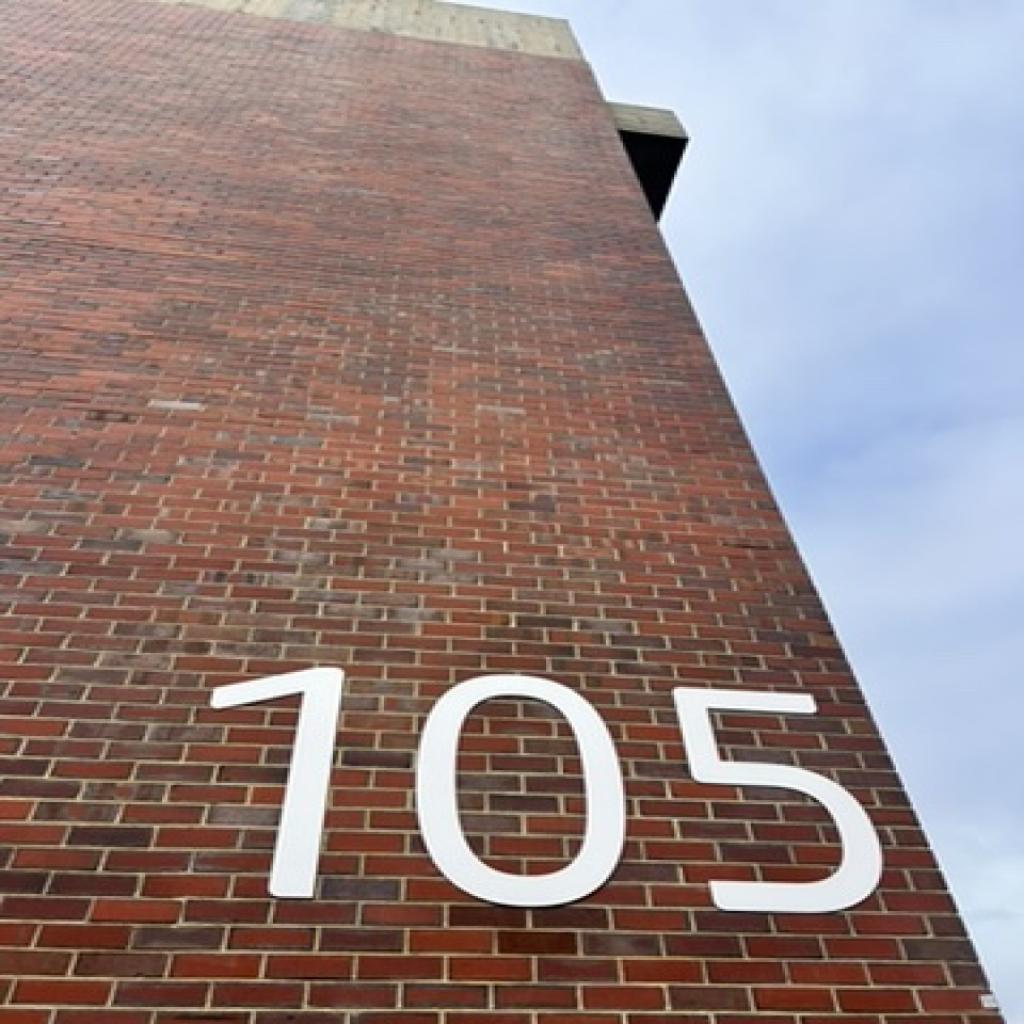BuildingCodes: (206, 656, 888, 922)
